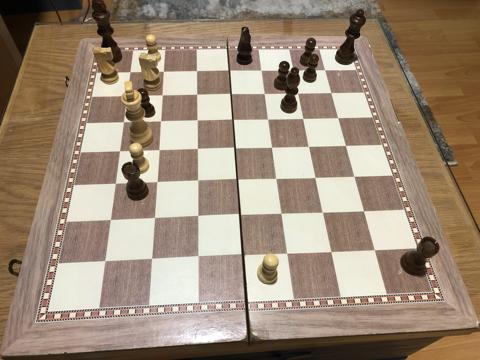xcorner: (321, 66, 333, 78), (289, 66, 301, 78), (256, 66, 268, 78), (224, 66, 236, 78), (191, 67, 203, 79), (157, 67, 169, 79), (124, 67, 136, 79), (327, 89, 339, 101), (293, 89, 305, 101), (260, 89, 272, 101), (225, 90, 237, 102), (191, 90, 203, 102), (156, 91, 168, 103), (121, 91, 133, 103), (334, 114, 346, 126), (299, 114, 311, 126), (263, 115, 275, 127), (227, 116, 239, 128), (191, 116, 203, 128), (154, 117, 166, 129), (117, 117, 129, 129), (341, 142, 353, 154), (304, 142, 316, 154), (267, 143, 279, 155), (229, 144, 241, 156), (191, 145, 203, 157), (153, 146, 165, 158), (113, 147, 125, 159), (349, 172, 361, 184), (311, 173, 323, 185), (271, 174, 283, 186), (232, 176, 244, 188), (191, 177, 203, 189), (151, 178, 163, 190), (109, 179, 121, 191), (359, 207, 371, 219), (318, 208, 330, 220), (276, 209, 288, 221), (234, 211, 246, 223), (192, 212, 204, 224), (148, 214, 160, 226), (105, 215, 117, 227), (369, 245, 381, 257), (326, 247, 338, 259), (282, 249, 294, 261), (237, 250, 249, 262), (192, 252, 204, 264), (146, 254, 158, 266), (99, 256, 111, 268)
